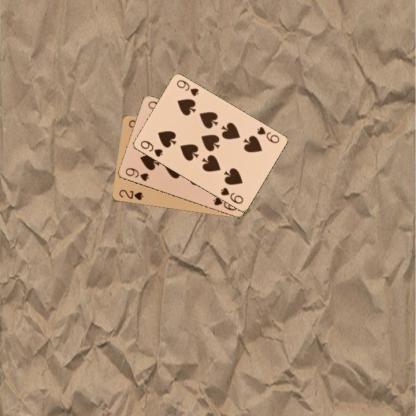2s: (116, 187, 145, 202)
9s: (254, 124, 280, 145), (138, 138, 164, 158), (123, 165, 150, 183)
